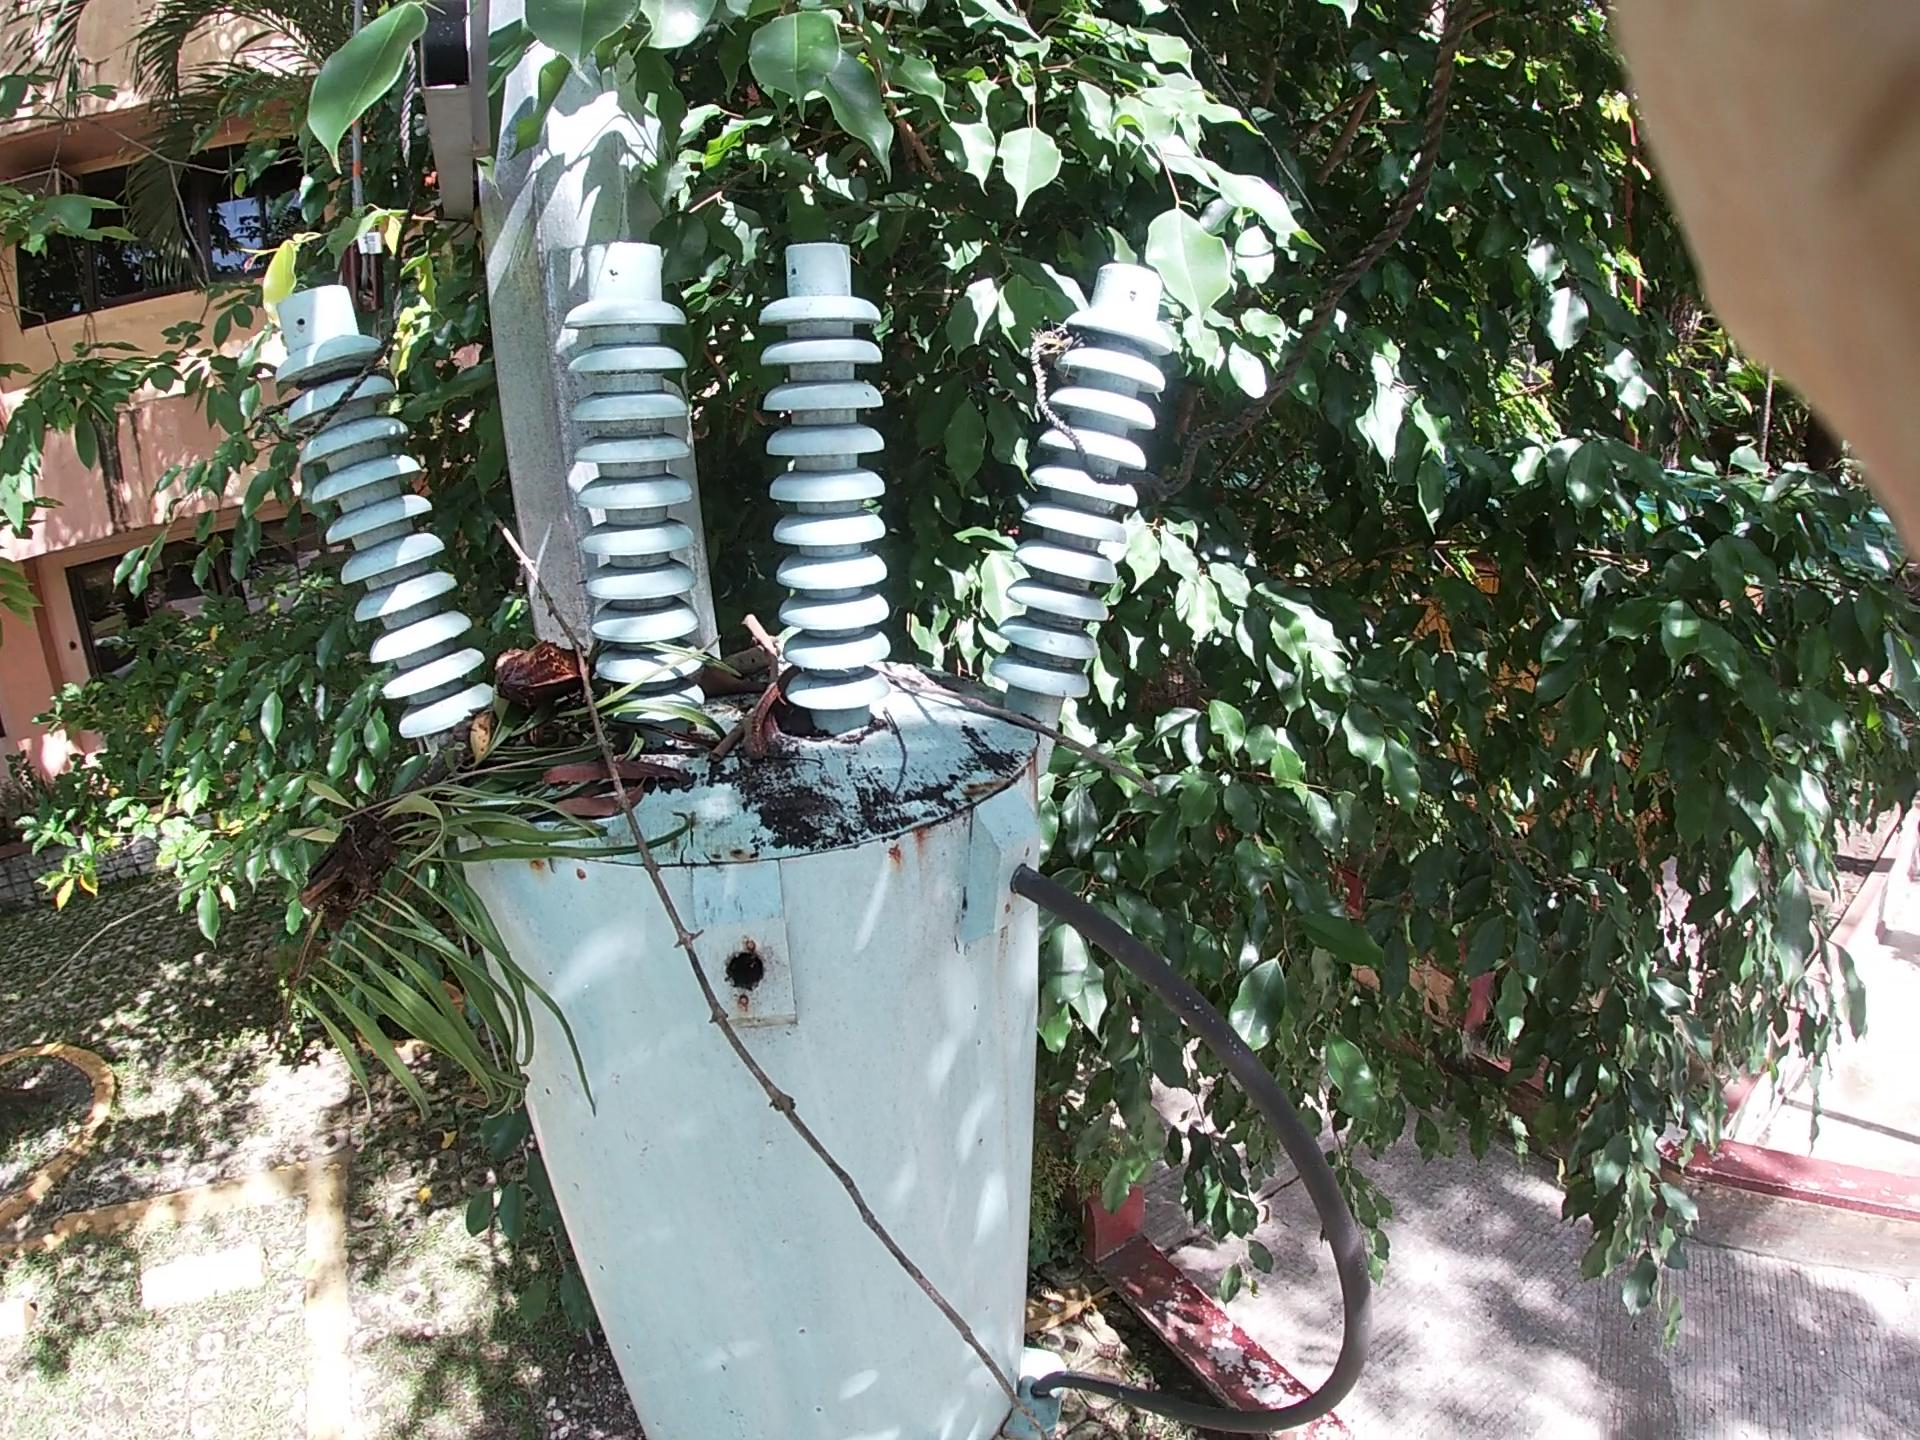branch with leaves: (230, 493, 757, 1097)
leaf: (321, 6, 1120, 451)
mahogany fruit: (723, 646, 844, 759), (513, 629, 603, 755)
tree branch: (500, 489, 977, 1299), (838, 573, 1217, 821), (665, 684, 773, 762)
